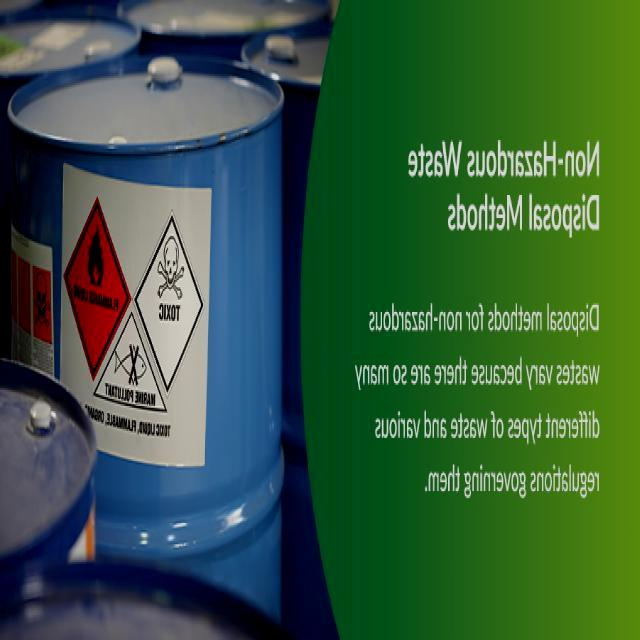B3: (26, 69, 279, 523)
